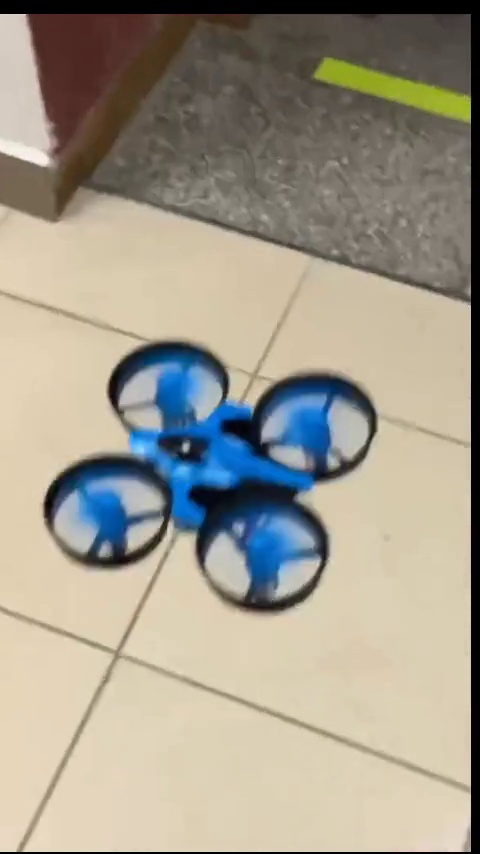drone: (44, 345, 385, 608)
